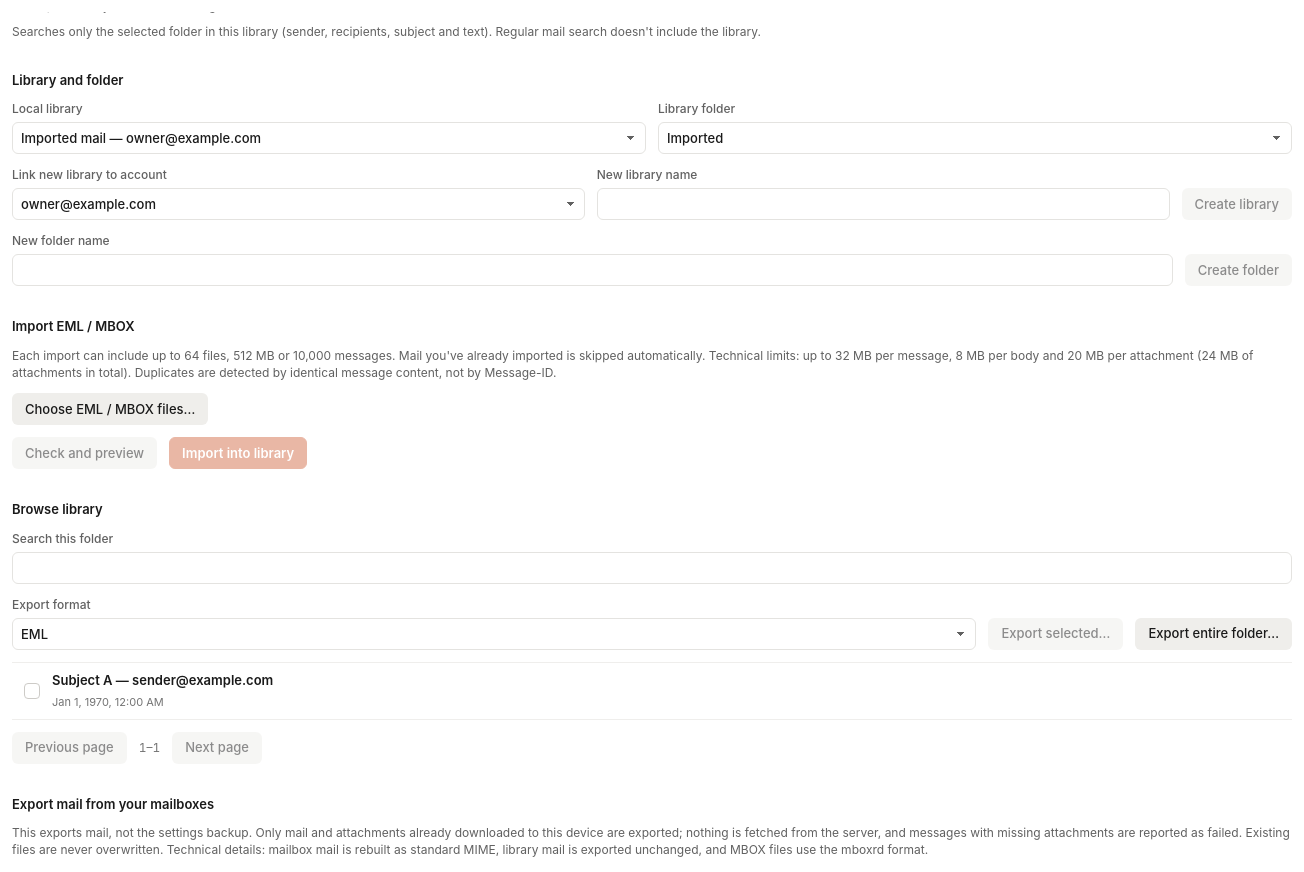
it: Local mail archive browser › does not close a message opened before the initial search debounce would have fired
The width and height of the screenshot is (1304, 872).
(page scrolled)
Click the button "Subject A — sender@example.com Jan 1, 1970, 12:00 AM". click: point(82, 680)
box: [52,663,1292,719]
(page scrolled)
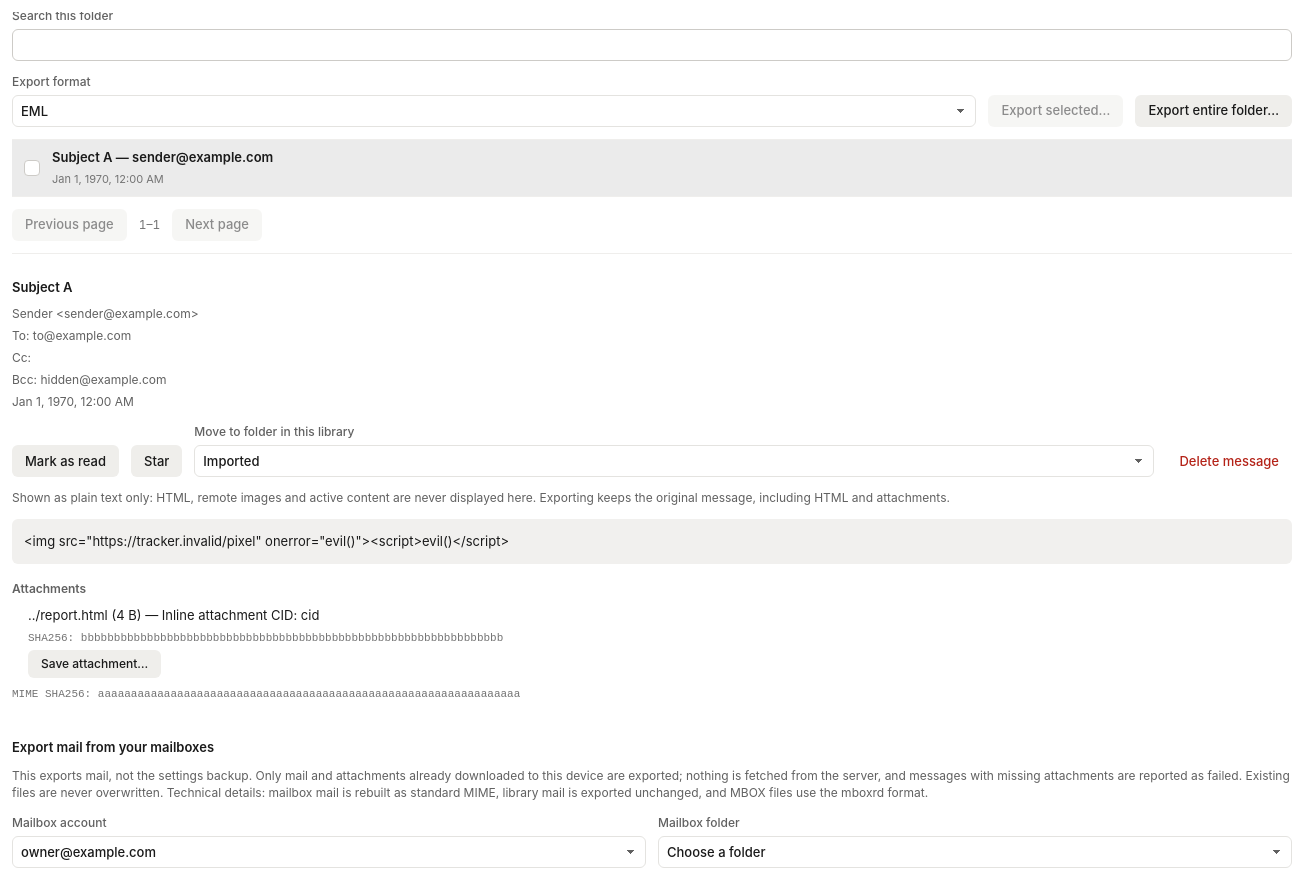
Check: the element named "Selected message" is shown, box [12,253,1292,706]
